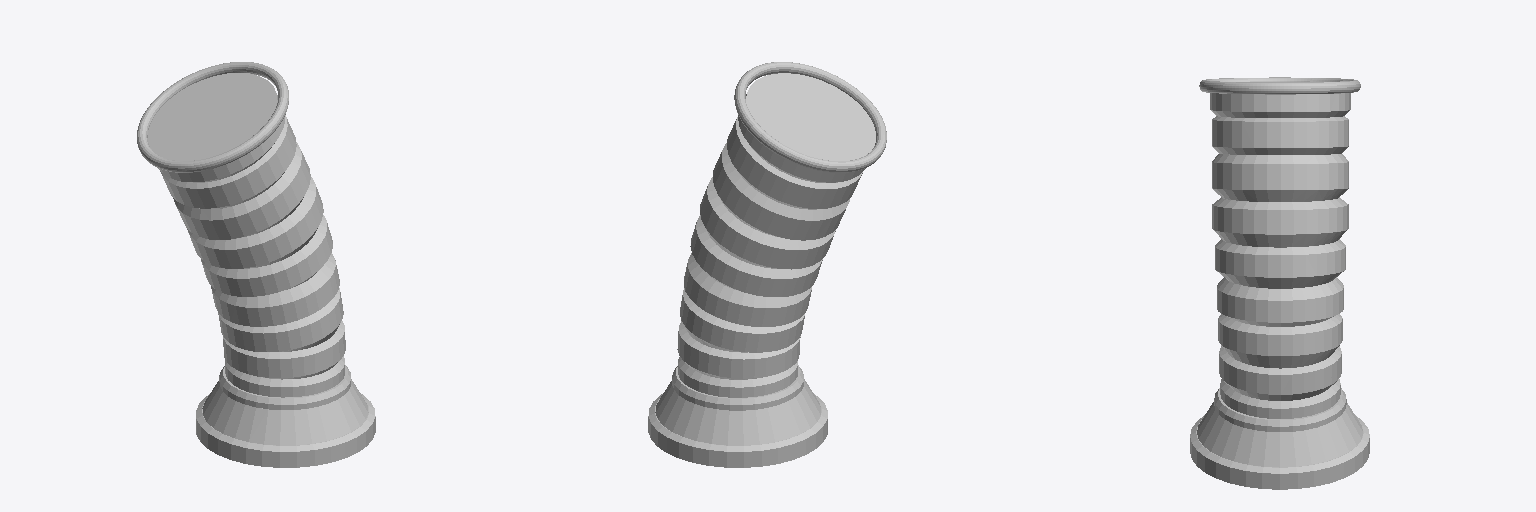
Rendered from pata_delantera.obj.
3 views of the same model, side by side, from view 1: azimuth 30°, elevation 25°; view 2: azimuth 150°, elevation 25°; view 3: azimuth 270°, elevation 25° (orthographic).
Parts seen in each view (by area): view 1: m_inferior005, m_inferior014, m_inferior015, m_inferior008, m_inferior013; view 2: m_inferior005, m_inferior014, m_inferior015, m_inferior008, m_inferior013; view 3: m_inferior005, m_inferior014, m_inferior015, m_inferior008, m_inferior013.
Part boxes in pixels (x1,y1,x2,y2): m_inferior005: (148,73,345,397); m_inferior014: (202,379,368,445); m_inferior015: (196,394,375,467); m_inferior008: (137,62,288,172); m_inferior013: (219,365,350,409); m_inferior005: (677,73,875,397); m_inferior014: (655,379,820,445); m_inferior015: (648,394,827,467); m_inferior008: (734,62,886,172); m_inferior013: (672,365,803,410); m_inferior005: (1210,93,1350,418); m_inferior014: (1197,402,1362,467); m_inferior015: (1190,415,1369,489); m_inferior008: (1199,77,1360,94); m_inferior013: (1214,388,1346,431).
Size of the model in its own units: 1.42 by 2.29 by 1.03.